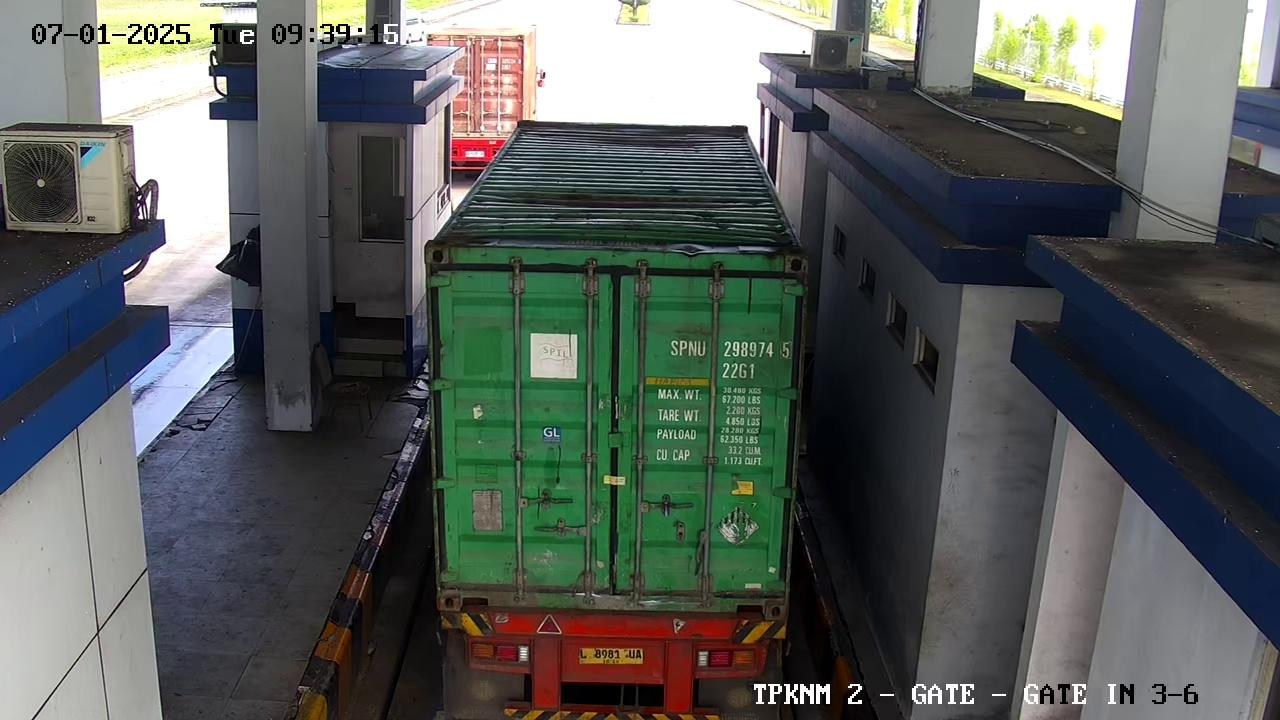Container_ID: (655, 337, 795, 360)
plate_number: (564, 639, 651, 675)
